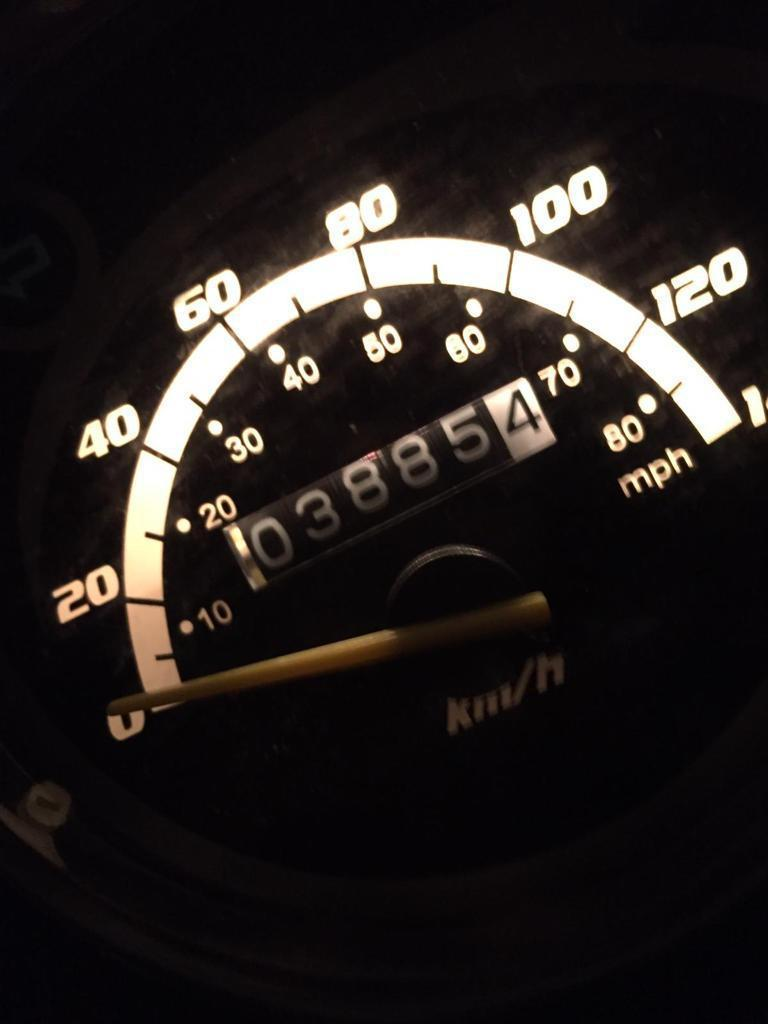0: (249, 514, 295, 569), (240, 426, 265, 455), (215, 493, 238, 521)
3: (294, 487, 342, 541), (223, 435, 247, 464)
4: (505, 388, 542, 435)
5: (438, 405, 491, 464)
8: (390, 434, 441, 490), (341, 459, 390, 514)
odometer: (219, 373, 559, 595)
